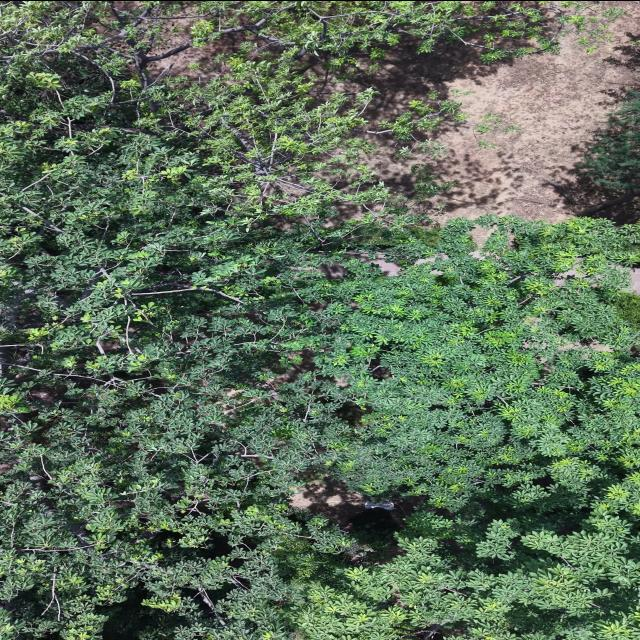DRY_AREA: (314, 1, 639, 222), (326, 1, 639, 222), (339, 1, 639, 222), (342, 1, 639, 222), (346, 1, 639, 222), (360, 1, 639, 222), (289, 479, 422, 562), (289, 478, 423, 531), (289, 479, 422, 528), (289, 479, 365, 529), (289, 480, 365, 529), (289, 478, 369, 523), (362, 258, 401, 276), (630, 269, 639, 293)
VEGETATION_TREE: (0, 1, 639, 639), (579, 90, 639, 224), (581, 90, 639, 190), (611, 293, 639, 328)
